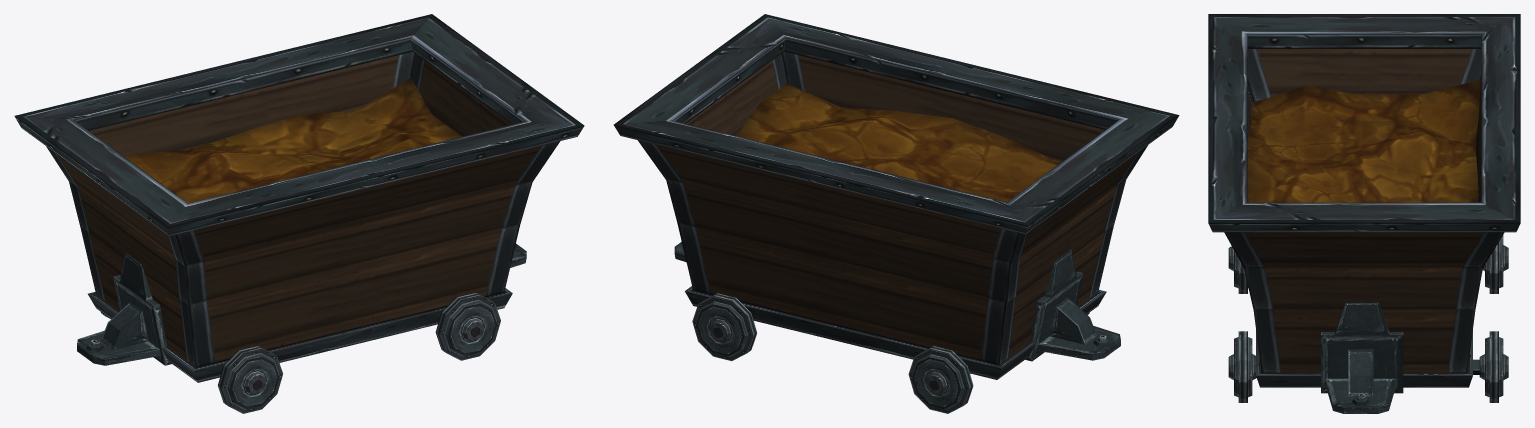
File: cart2.FBX
3 renders of one model, left to right at view 1: azimuth 30°, elevation 25°; view 2: azimuth 150°, elevation 25°; view 3: azimuth 270°, elevation 25°, orthographic. The views are drawn at different scales.
Visible parts, largest first — view 1: cart2, cart2_w3, cart2_w1; view 2: cart2, cart2_w2, cart2_w4; view 3: cart2, cart2_w4, cart2_w3, cart2_w2, cart2_w1.
Part boxes in pixels (bbox=[...]): cart2: bbox=[14, 14, 584, 382]; cart2_w3: bbox=[435, 292, 500, 360]; cart2_w1: bbox=[218, 345, 282, 413]; cart2: bbox=[613, 14, 1179, 379]; cart2_w2: bbox=[908, 346, 973, 413]; cart2_w4: bbox=[692, 293, 756, 360]; cart2: bbox=[1208, 14, 1520, 413]; cart2_w4: bbox=[1479, 331, 1508, 402]; cart2_w3: bbox=[1228, 331, 1256, 402]; cart2_w2: bbox=[1482, 235, 1508, 293]; cart2_w1: bbox=[1228, 246, 1248, 293].
Size of the model in its own units: 168 by 81.6 by 103.
